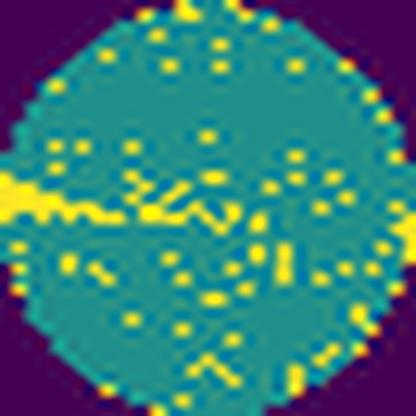Loc: (125, 167, 241, 232), (0, 172, 125, 230)
